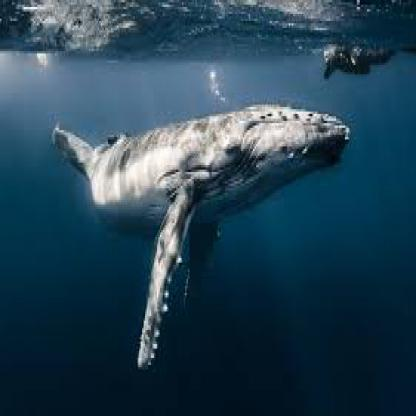blue_whale: (49, 97, 380, 378)
